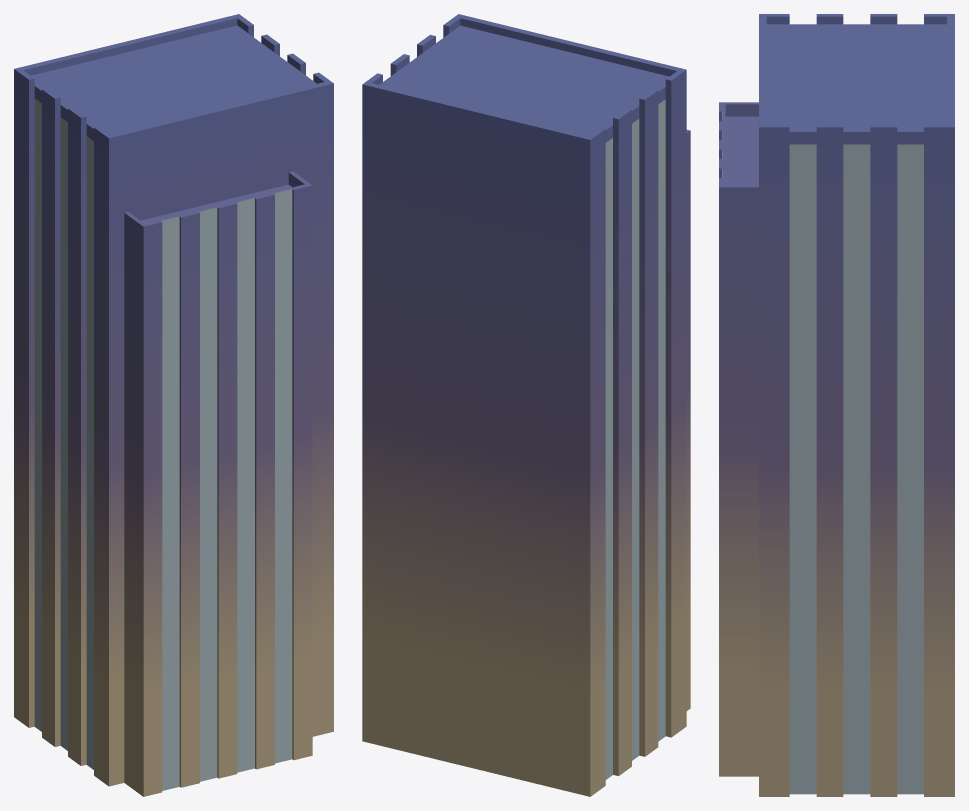
File: Building_D.fbx
3 renders of one model, left to right at view 1: azimuth 30°, elevation 25°; view 2: azimuth 150°, elevation 25°; view 3: azimuth 270°, elevation 25°, orthographic. The views are drawn at different scales.
Visible parts, largest first — view 1: Box002; view 2: Box002; view 3: Box002.
Boxes of the visible parts, x1=… form: Box002: x1=14, y1=14, x2=333, y2=796; Box002: x1=362, y1=14, x2=690, y2=796; Box002: x1=719, y1=14, x2=954, y2=796.
Size of the model in its own units: 411 by 1131 by 361.
